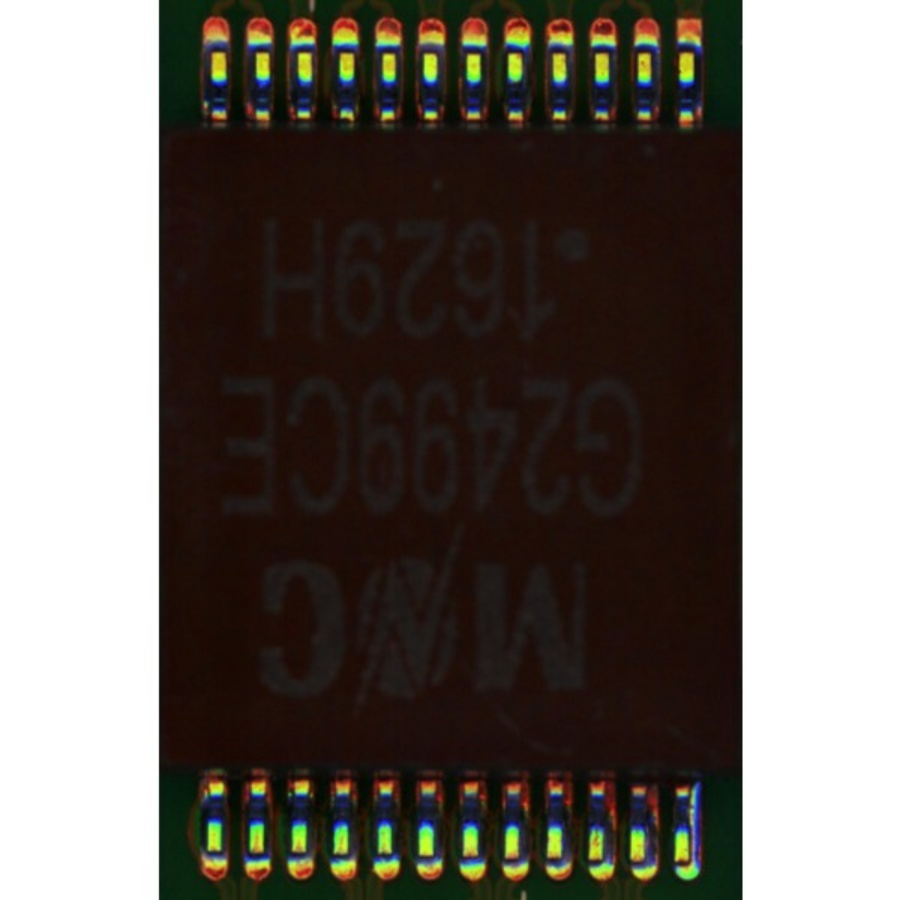Bad_qiaojiao: (690, 782, 698, 856)
